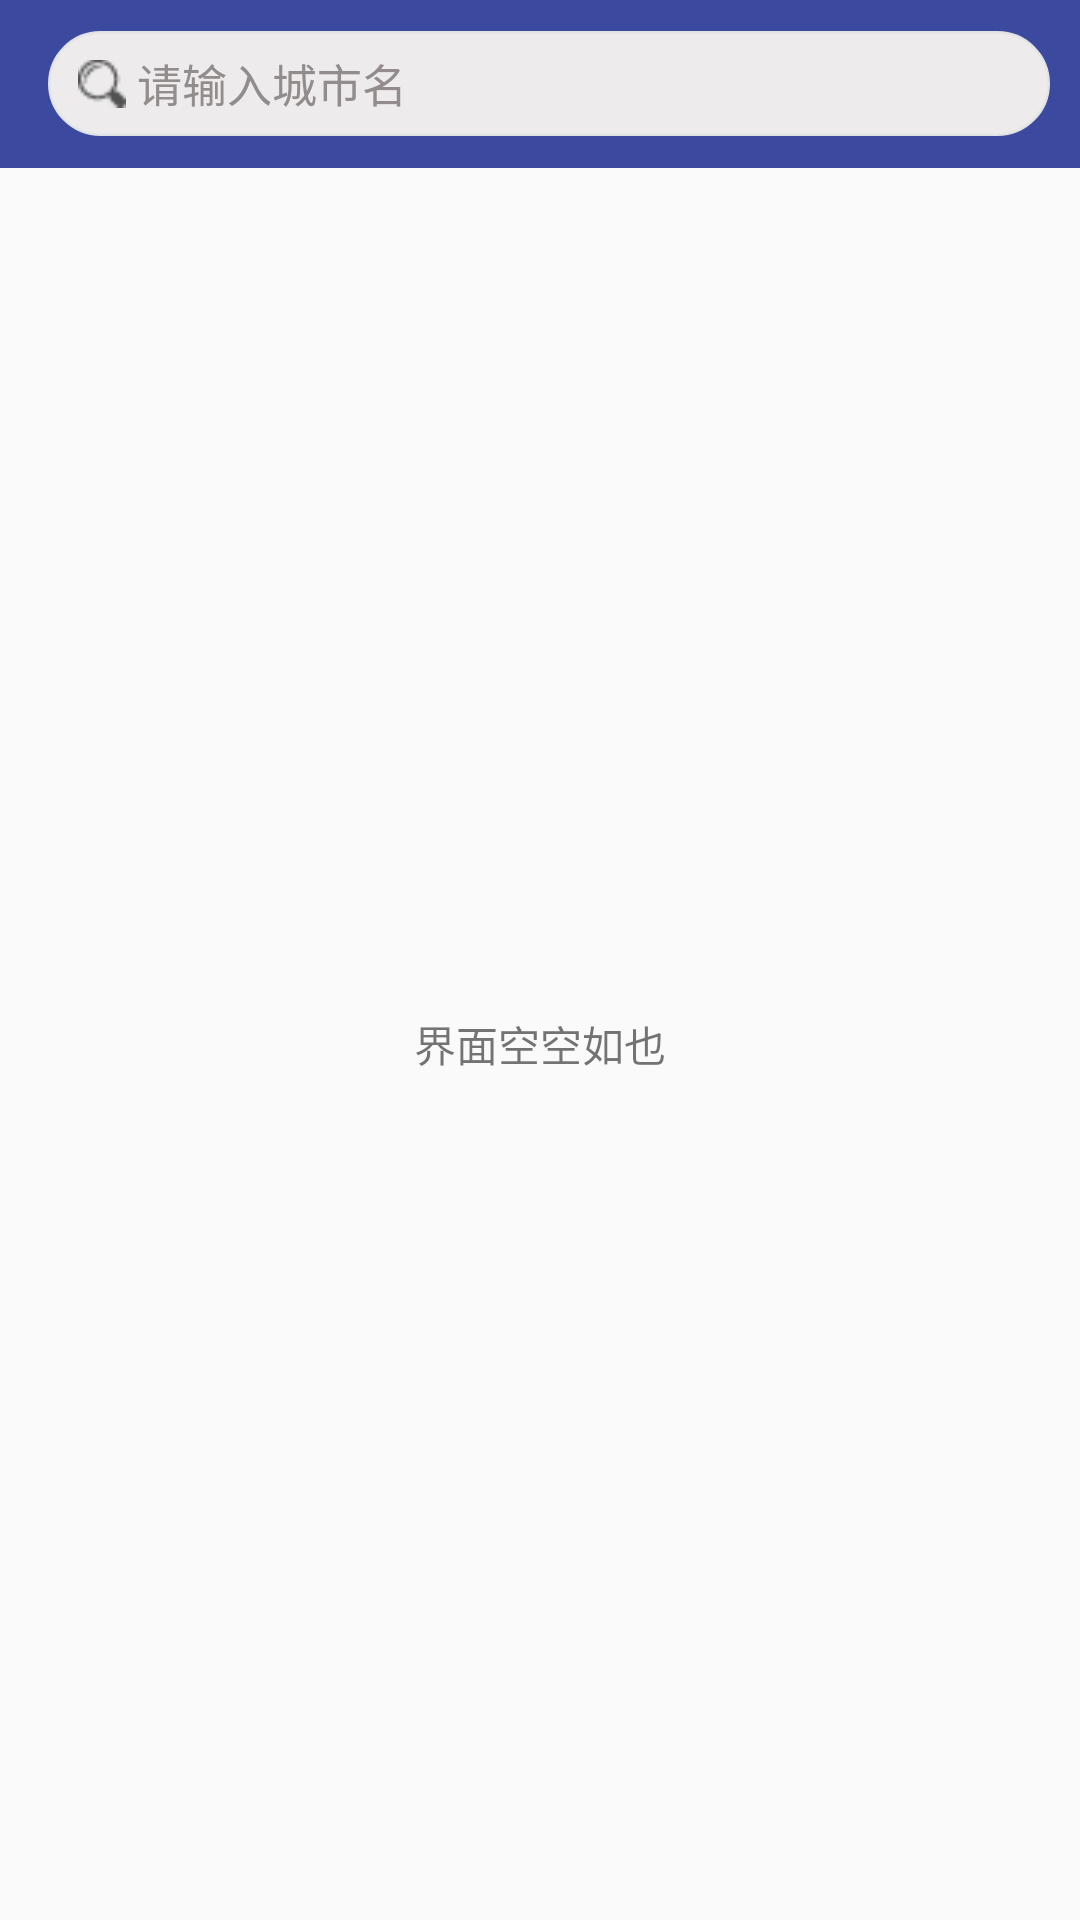

Screen size 1080 x 1920. Icon name, then its center in pixels as [x,y]:
search: [102,83]
